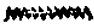Water: (3, 5, 93, 23)
